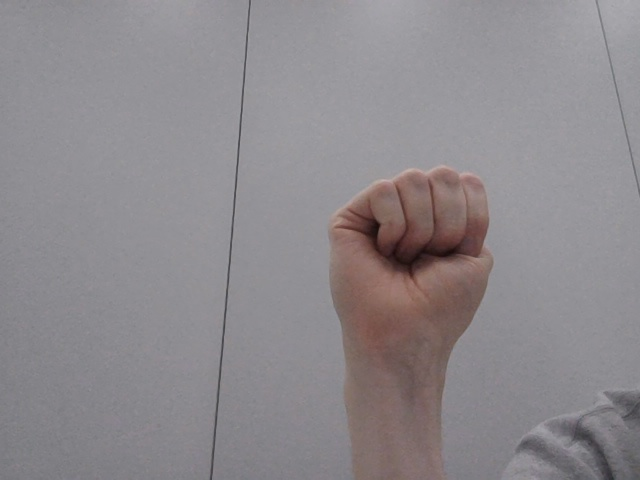down: (306, 149, 523, 372)
